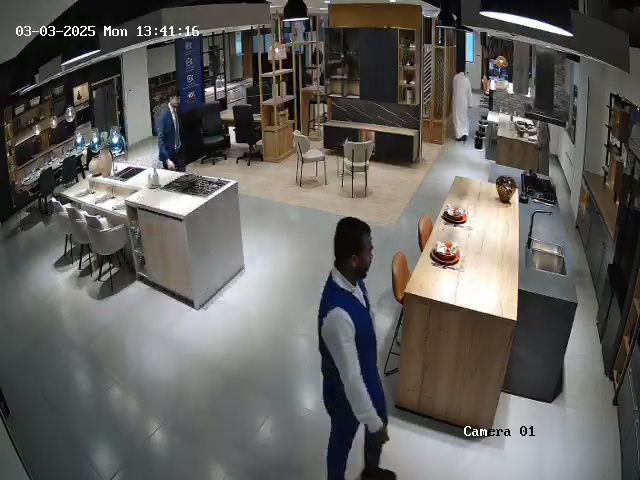employee: (156, 88, 187, 172)
male: (317, 215, 397, 480), (447, 56, 483, 147)
